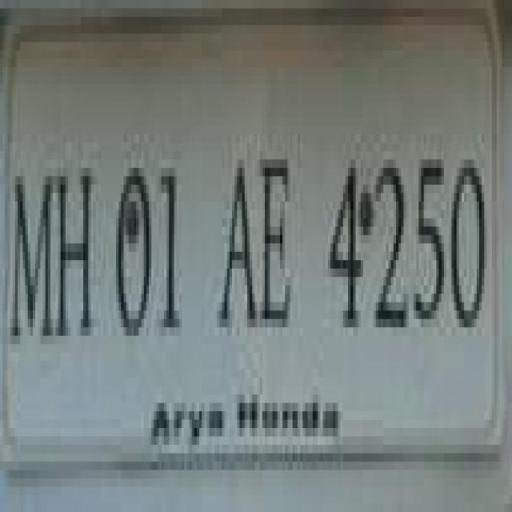number plate: (2, 17, 484, 470)
